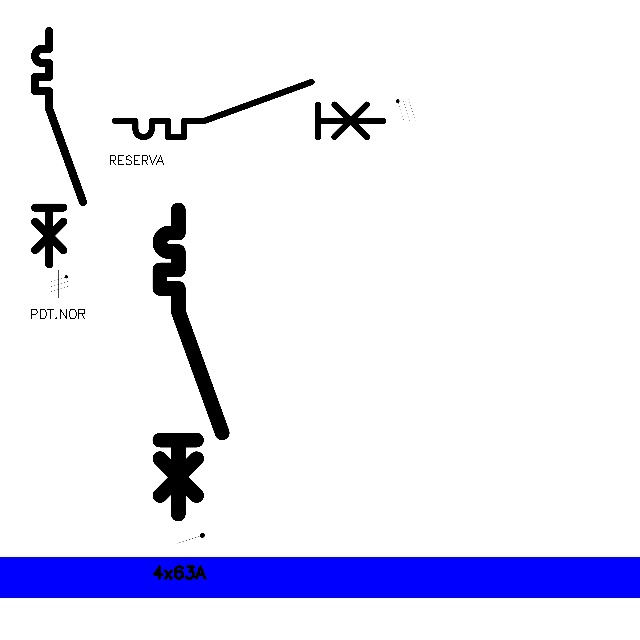interruptor_termomagnetico: (152, 202, 230, 522), (108, 75, 390, 144), (29, 25, 89, 270)
